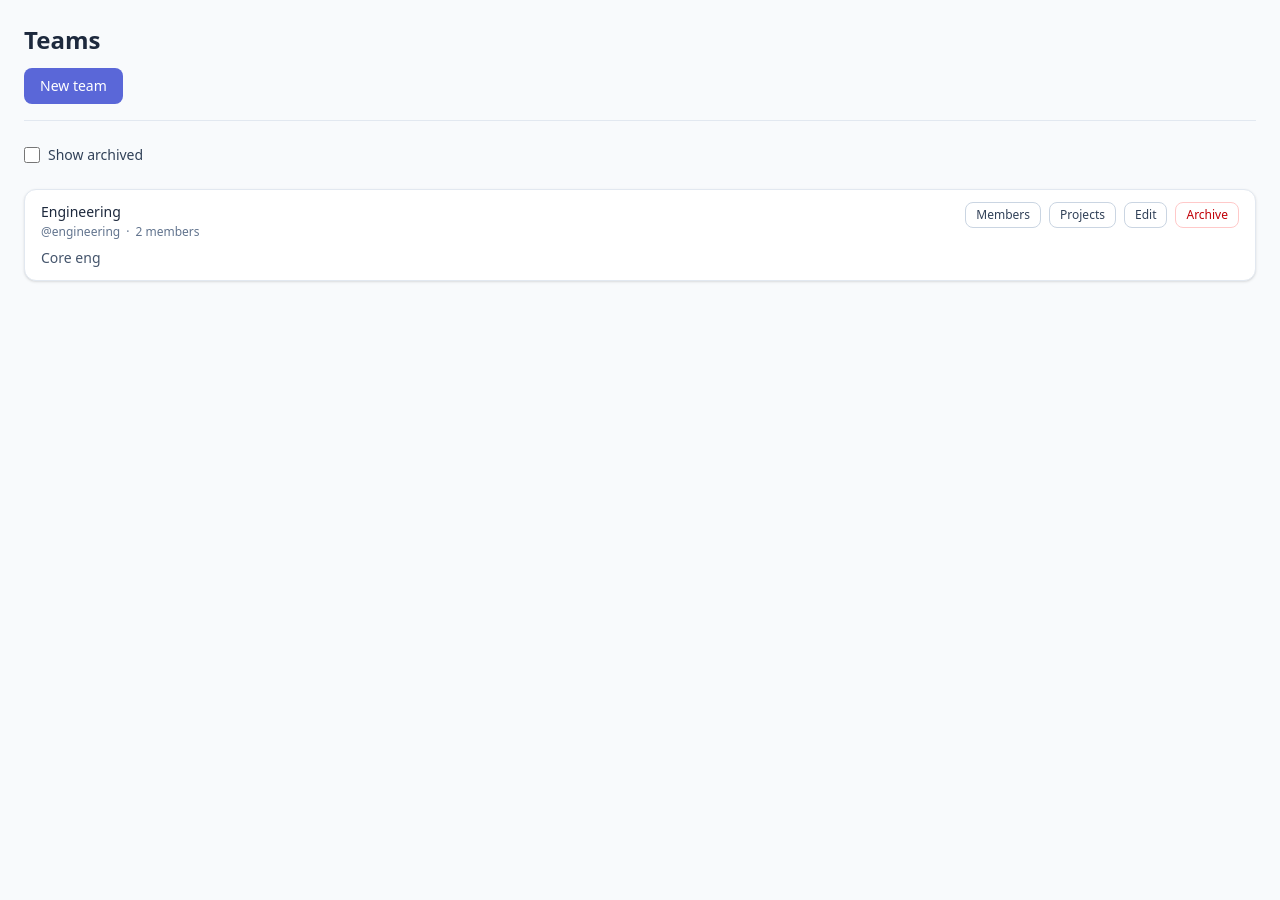
TeamsPanel - edit flow › shows an error when update fails
The width and height of the screenshot is (1280, 900).
Check: the text "Engineering" is shown, box [41,202,121,222]
Click the button "Edit": (1146, 215) [1124,202,1168,228]
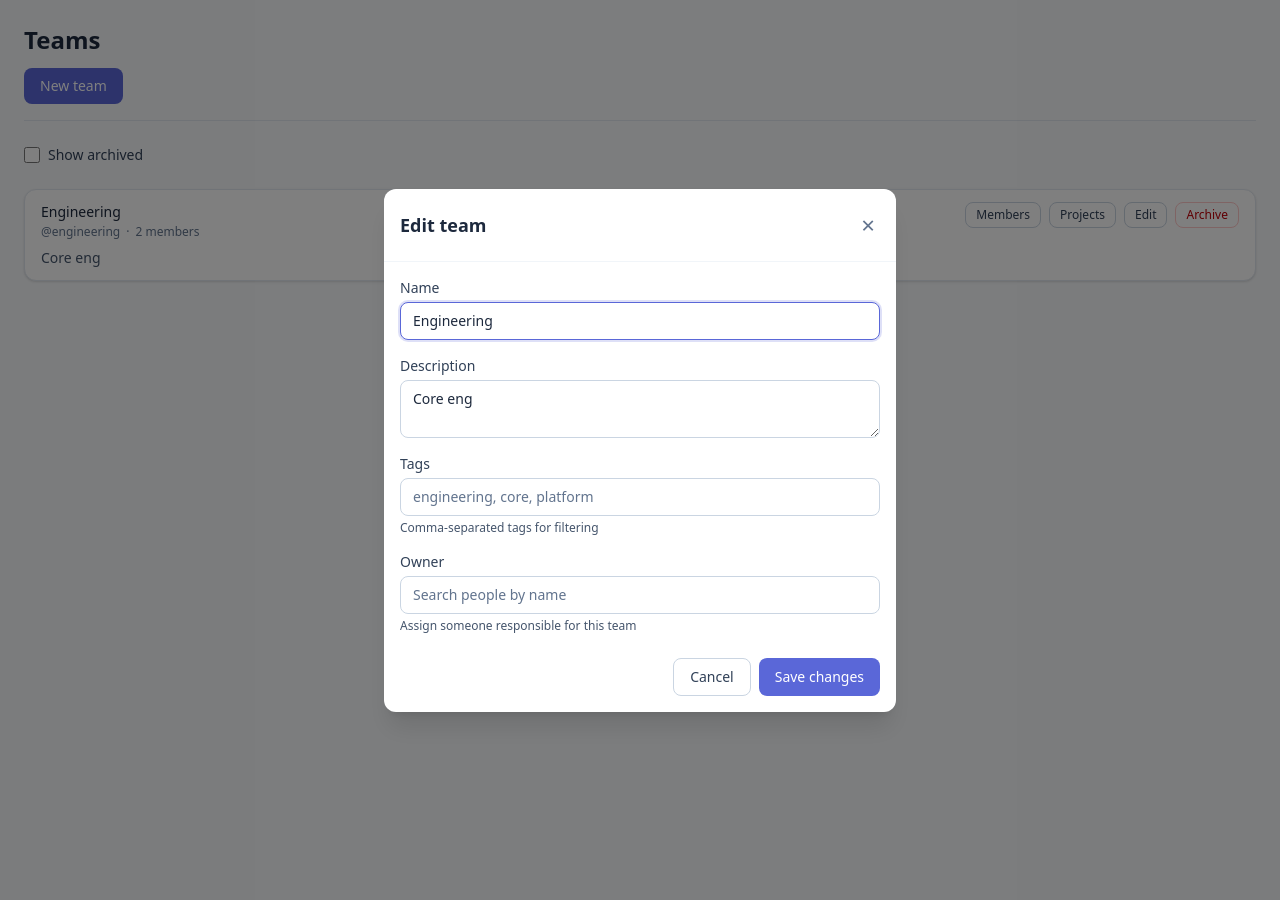
Click the button "Save changes": (819, 676) [759,658,880,696]
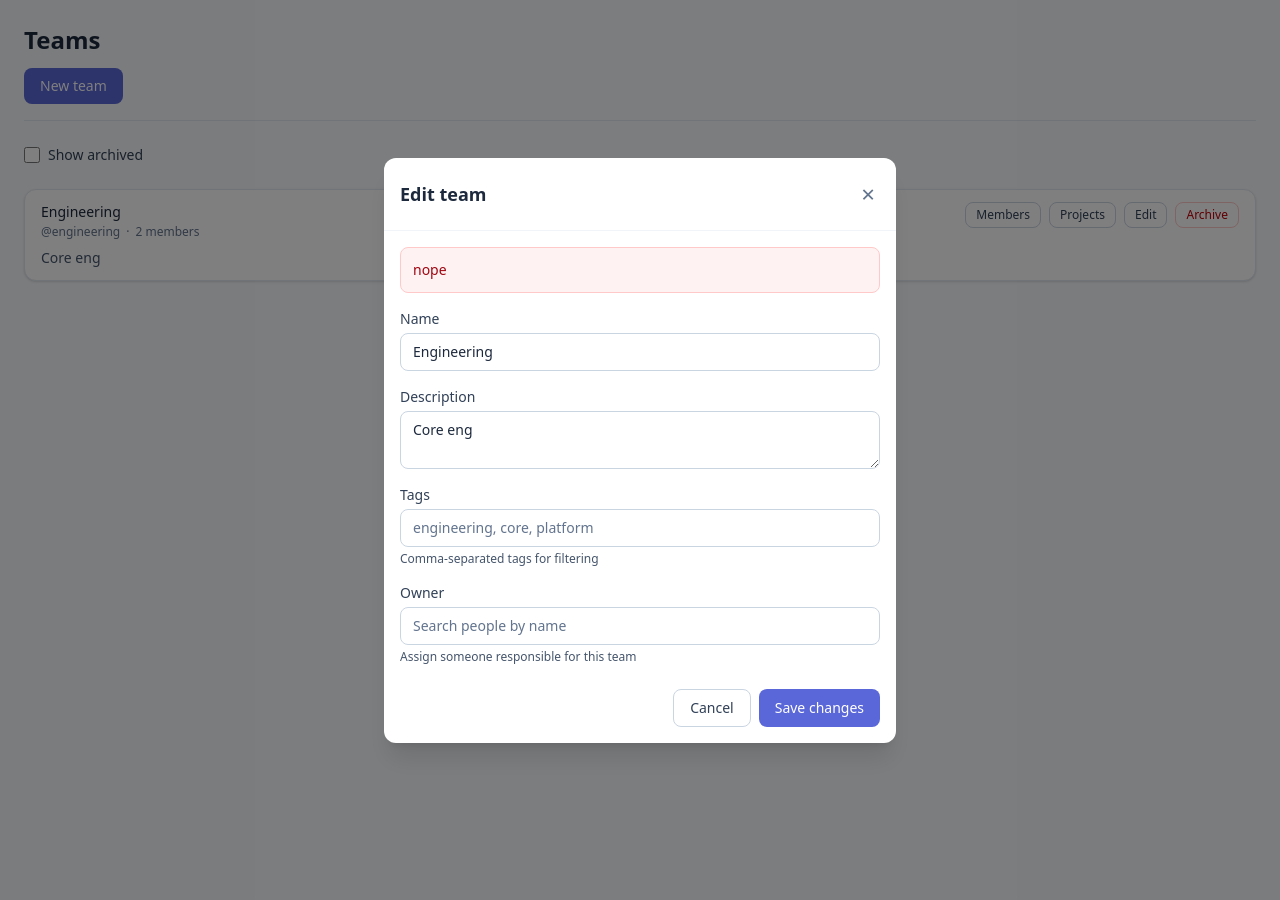
Check: the text "nope" is shown, box [413,260,447,280]
